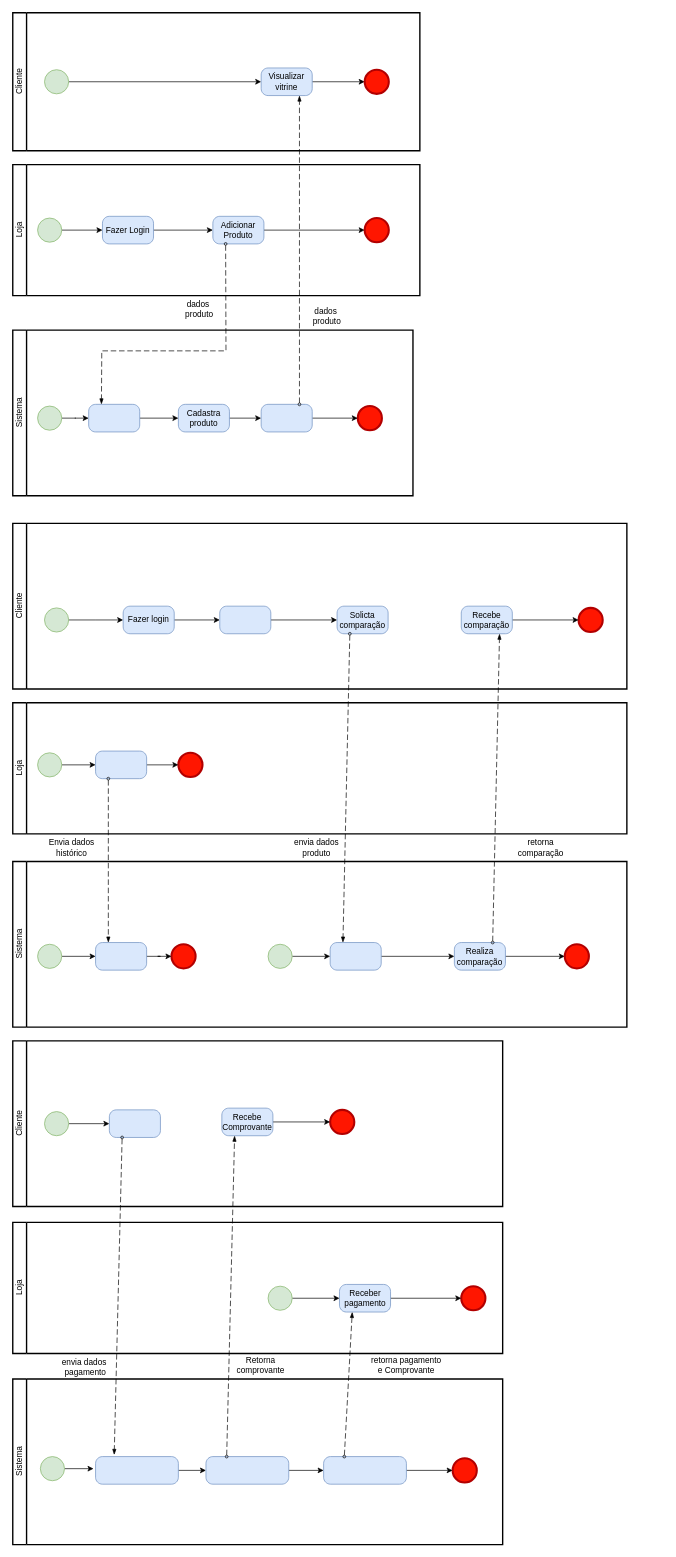
The diagram is 676 pixels wide and 1557 high, and some of its shapes have lost their labels. The centre of each missing label's shape, as x and y in pixels:
"Checar histórico" belongs at (x=355, y=956).
"Envia histórico" belongs at (x=121, y=764).
"Exibe produto" belongs at (x=286, y=418).
"Recebe Histórico" belongs at (x=121, y=956).
"Retorna status" belongs at (x=247, y=1470).
"Retornar Pagamento" belongs at (x=364, y=1470).
"Seleciona Produto" belongs at (x=245, y=619).
"Solicitar pagamento" belongs at (x=134, y=1123).
"Valida dados" belongs at (x=114, y=418).
"Verificar dados" belongs at (x=136, y=1470).
